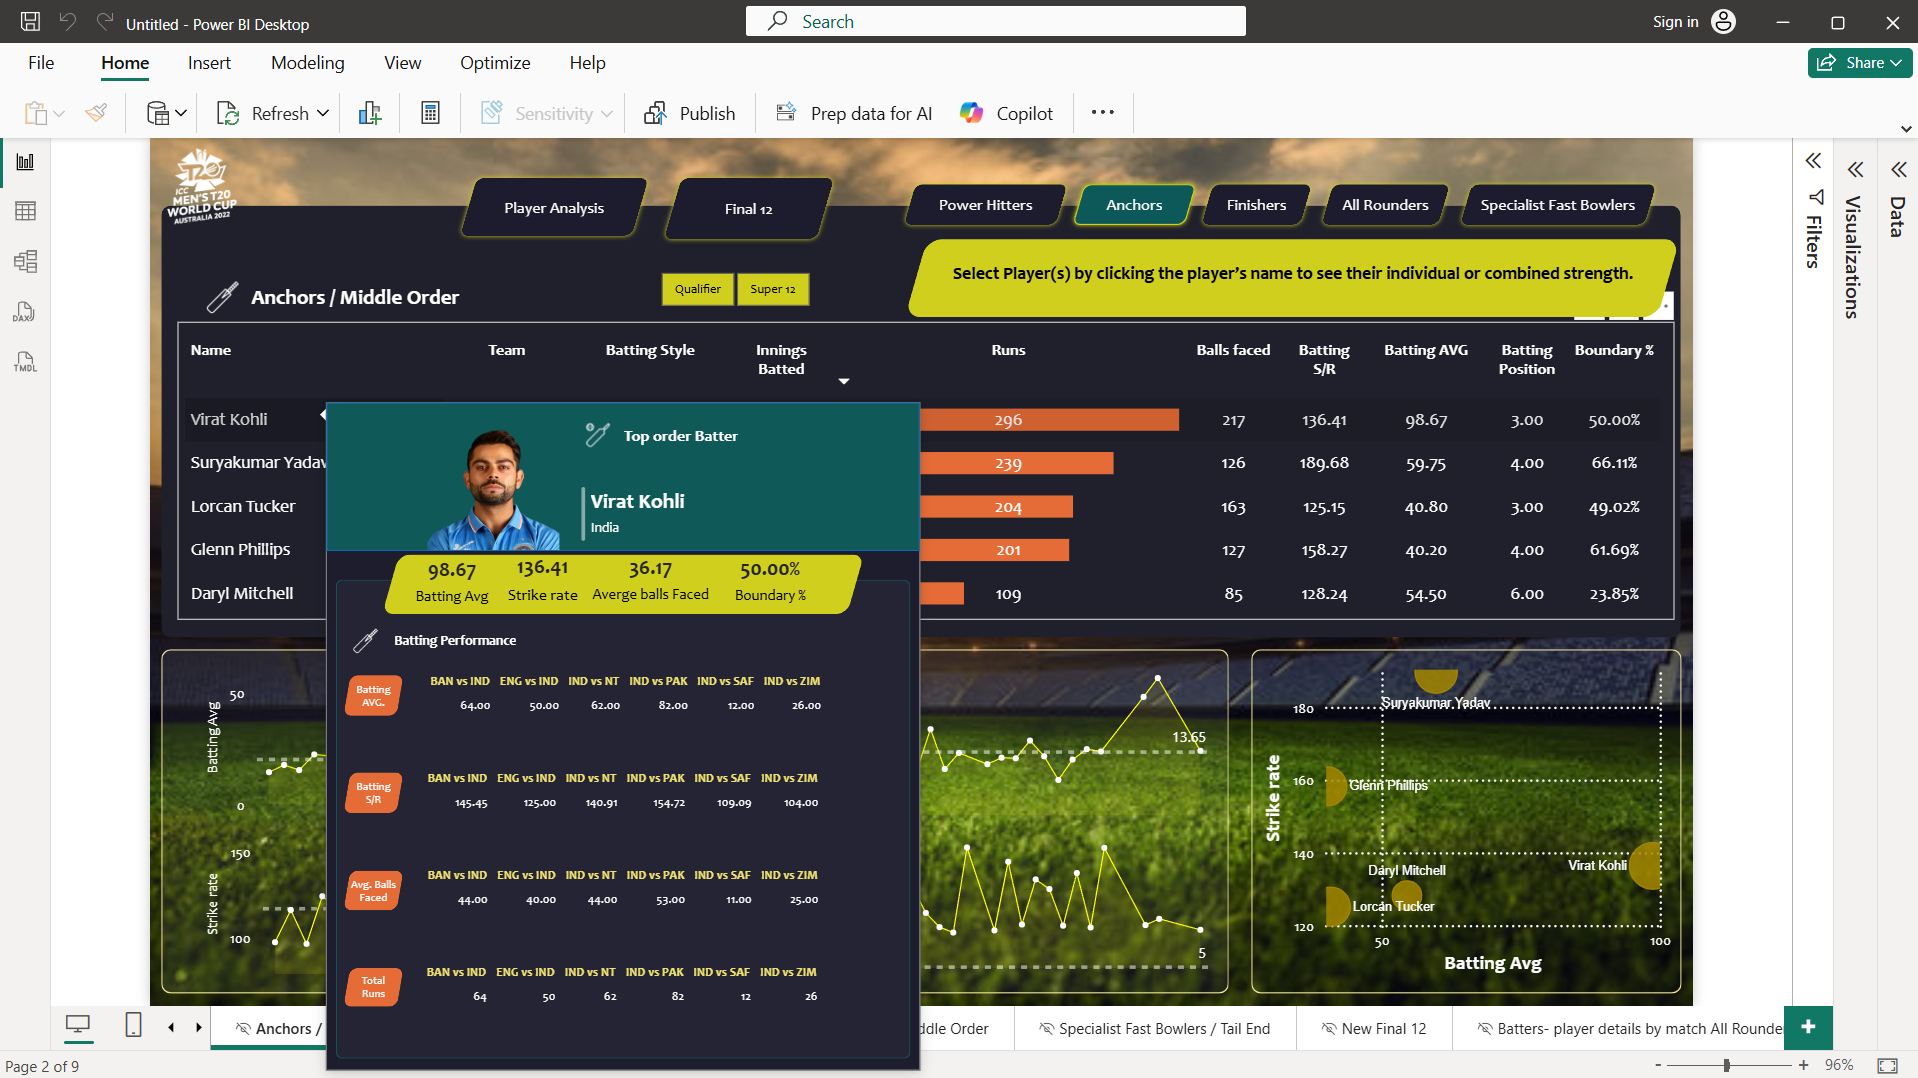

What the dashboard file says about the page in this screenshot:
{"tool":"powerbi","page":{"name":"Anchors / Middle Order","canvas":[1280,720],"ordinal":1},"visuals":[{"type":"group","id":"g1","title":"Group 2","box":[83.8,116.2,260,31.2],"z":0,"group":"g2"},{"type":"shape","box":[83.8,116.2,260,31.2],"z":0,"group":"g1"},{"type":"shape","box":[912.5,424,356.8,285.4],"z":0},{"type":"shape","box":[9,56.3,1259.7,358.1],"z":1000},{"type":"image","box":[38,114,44,36],"z":1000,"group":"g2"},{"type":"tableEx","fields":{"Values":["dim_player.name","dim_player.team","dim_player.Batting Style","Key_Measures.Total Matches","Key_Measures.Total Runs","Key_Measures.total balls faced","Key_Measures.Strike rate","Key_Measures.Bat Avg","Key_Measures.Batting Position","Key_Measures.Boundary %"]},"box":[23,152,1241,248],"z":2000},{"type":"group","id":"g2","title":"Group 1","box":[38,114,305.8,36],"z":3000},{"type":"shape","box":[626,84,642.2,64.5],"z":4000},{"type":"card","fields":{"Values":["Key_Measures.Batting Avg"]},"box":[846,86,96.1,59],"z":5000},{"type":"card","fields":{"Values":["Key_Measures.Strike rate"]},"box":[944,85,96,60],"z":6000},{"type":"card","fields":{"Values":["Key_Measures.Averge balls Faced"]},"box":[1136.2,85.1,107,60.4],"z":7000},{"type":"shape","box":[673.8,96.1,172.9,34.3],"z":8000},{"type":"card","fields":{"Values":["Key_Measures.Boundary %"]},"box":[1048,85,96,60],"z":9000},{"type":"actionButton","title":"Button Player Ana selected","box":[252.5,28.8,164.7,56.3],"z":10000},{"type":"actionButton","title":"Button Player Ana selected","box":[421.3,28.8,149.6,59],"z":11000},{"type":"slicer","fields":{"Values":["dim_match_summary.stage"]},"box":[397.9,104.3,172.9,41.2],"z":12000},{"type":"image","box":[9.6,2.7,67.2,74.1],"z":13000},{"type":"shape","box":[664.2,87.8,566.7,48],"z":14000},{"type":"shape","box":[9.6,424,885.1,285.4],"z":15000},{"type":"areaChart","fields":{"Y":["Key_Measures.Batting Avg"],"Category":["dim_match_summary.matchDate"]},"box":[41.2,428.1,422.6,138.6],"z":16000},{"type":"areaChart","fields":{"Y":["Key_Measures.Strike rate"],"Category":["dim_match_summary.matchDate"]},"box":[41.2,564,443.2,134.5],"z":17000},{"type":"areaChart","fields":{"Y":["Key_Measures.Averge balls Faced"],"Category":["dim_match_summary.matchDate"]},"box":[484.4,428.1,402.1,138.6],"z":18000},{"type":"areaChart","fields":{"Y":["Key_Measures.Total Runs"],"Category":["dim_match_summary.matchDate"]},"box":[484.4,551.6,402.1,150.9],"z":19000},{"type":"scatterChart","fields":{"Y":["Key_Measures.Strike rate"],"Category":["dim_player.name"],"X":["Key_Measures.Bat Avg"],"Size":["Key_Measures.Total Runs"]},"box":[918,428.1,348,270.3],"z":20000},{"type":"actionButton","box":[621,34,144,42],"z":21000},{"type":"actionButton","box":[761,34,111,42],"z":22000},{"type":"actionButton","box":[867,34,100,42],"z":23000},{"type":"actionButton","box":[967,34,115,42],"z":24000},{"type":"actionButton","box":[1082,34,171,42],"z":25000}]}

Visuals, with their boxes on the page's 1280x720 design canvas (x1, y1, x2, y2). These are canvas units, not pixel positions in the 1918x1078 screenshot, which may show the page scaled, cropped or inside an application window:
"Group 2" group: x1=84, y1=116, x2=344, y2=147
shape: x1=84, y1=116, x2=344, y2=147
shape: x1=912, y1=424, x2=1269, y2=709
shape: x1=9, y1=56, x2=1269, y2=414
image: x1=38, y1=114, x2=82, y2=150
tableEx - dim_player.name x dim_player.team: x1=23, y1=152, x2=1264, y2=400
"Group 1" group: x1=38, y1=114, x2=344, y2=150
shape: x1=626, y1=84, x2=1268, y2=148
card - Key_Measures.Batting Avg: x1=846, y1=86, x2=942, y2=145
card - Key_Measures.Strike rate: x1=944, y1=85, x2=1040, y2=145
card - Key_Measures.Averge balls Faced: x1=1136, y1=85, x2=1243, y2=146
shape: x1=674, y1=96, x2=847, y2=130
card - Key_Measures.Boundary %: x1=1048, y1=85, x2=1144, y2=145
"Button Player Ana selected" actionButton: x1=252, y1=29, x2=417, y2=85
"Button Player Ana selected" actionButton: x1=421, y1=29, x2=571, y2=88
slicer - dim_match_summary.stage: x1=398, y1=104, x2=571, y2=146
image: x1=10, y1=3, x2=77, y2=77
shape: x1=664, y1=88, x2=1231, y2=136
shape: x1=10, y1=424, x2=895, y2=709
areaChart - Key_Measures.Batting Avg x dim_match_summary.matchDate: x1=41, y1=428, x2=464, y2=567
areaChart - Key_Measures.Strike rate x dim_match_summary.matchDate: x1=41, y1=564, x2=484, y2=698
areaChart - Key_Measures.Averge balls Faced x dim_match_summary.matchDate: x1=484, y1=428, x2=886, y2=567
areaChart - Key_Measures.Total Runs x dim_match_summary.matchDate: x1=484, y1=552, x2=886, y2=702
scatterChart - Key_Measures.Strike rate x dim_player.name: x1=918, y1=428, x2=1266, y2=698
actionButton: x1=621, y1=34, x2=765, y2=76
actionButton: x1=761, y1=34, x2=872, y2=76
actionButton: x1=867, y1=34, x2=967, y2=76
actionButton: x1=967, y1=34, x2=1082, y2=76
actionButton: x1=1082, y1=34, x2=1253, y2=76
